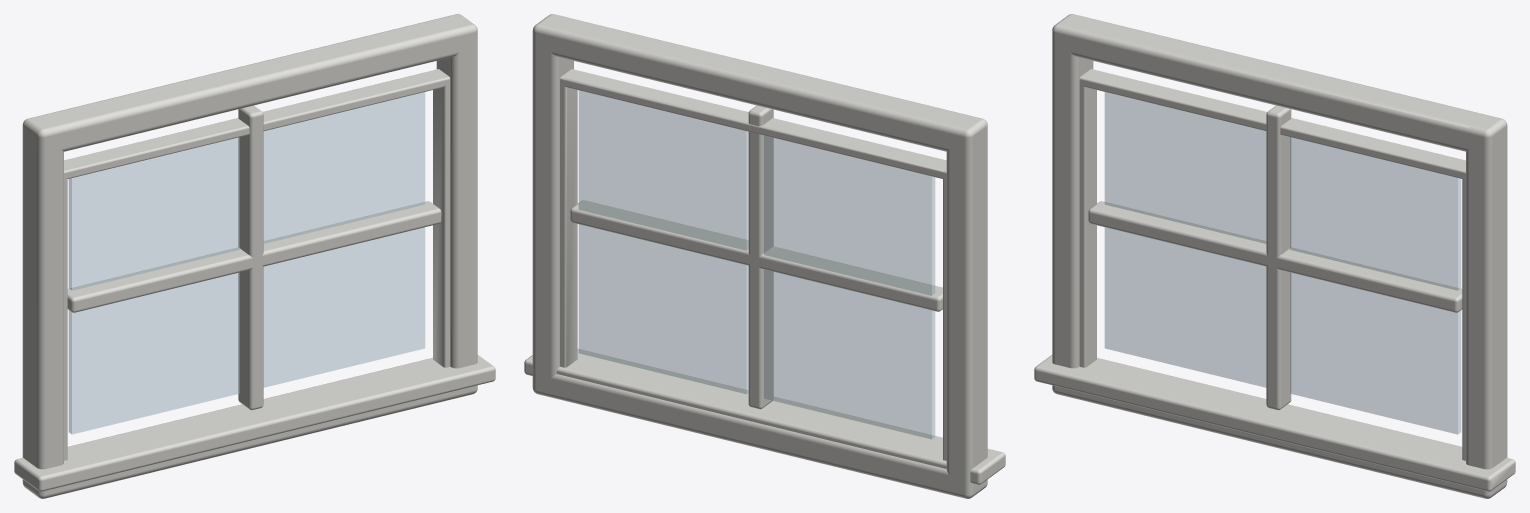
The model's file is modern-transom-window.optimized.glb.
3 views of the same model, side by side, from view 1: azimuth 30°, elevation 25°; view 2: azimuth 150°, elevation 25°; view 3: azimuth 330°, elevation 25° (orthographic).
Parts seen in each view (by area): view 1: outer frame top rail, lower left lite, lower right lite, upper left lite, upper right lite; view 2: outer frame top rail, lower left lite, lower right lite, upper left lite, upper right lite; view 3: outer frame top rail, lower right lite, lower left lite, upper right lite, upper left lite.
Boxes of the visible parts, <box> form: outer frame top rail: <box>14,14,495,498</box>; lower left lite: <box>68,272,239,434</box>; lower right lite: <box>263,227,425,387</box>; upper left lite: <box>68,137,239,290</box>; upper right lite: <box>263,92,425,243</box>; outer frame top rail: <box>524,14,1005,498</box>; lower left lite: <box>764,269,935,439</box>; lower right lite: <box>578,224,748,394</box>; upper left lite: <box>764,135,935,295</box>; upper right lite: <box>578,90,748,250</box>; outer frame top rail: <box>1034,14,1515,498</box>; lower right lite: <box>1290,272,1461,434</box>; lower left lite: <box>1104,227,1266,387</box>; upper right lite: <box>1290,137,1461,290</box>; upper left lite: <box>1104,92,1266,243</box>.
Size of the model in its own units: 1.58 by 1.22 by 0.168.
